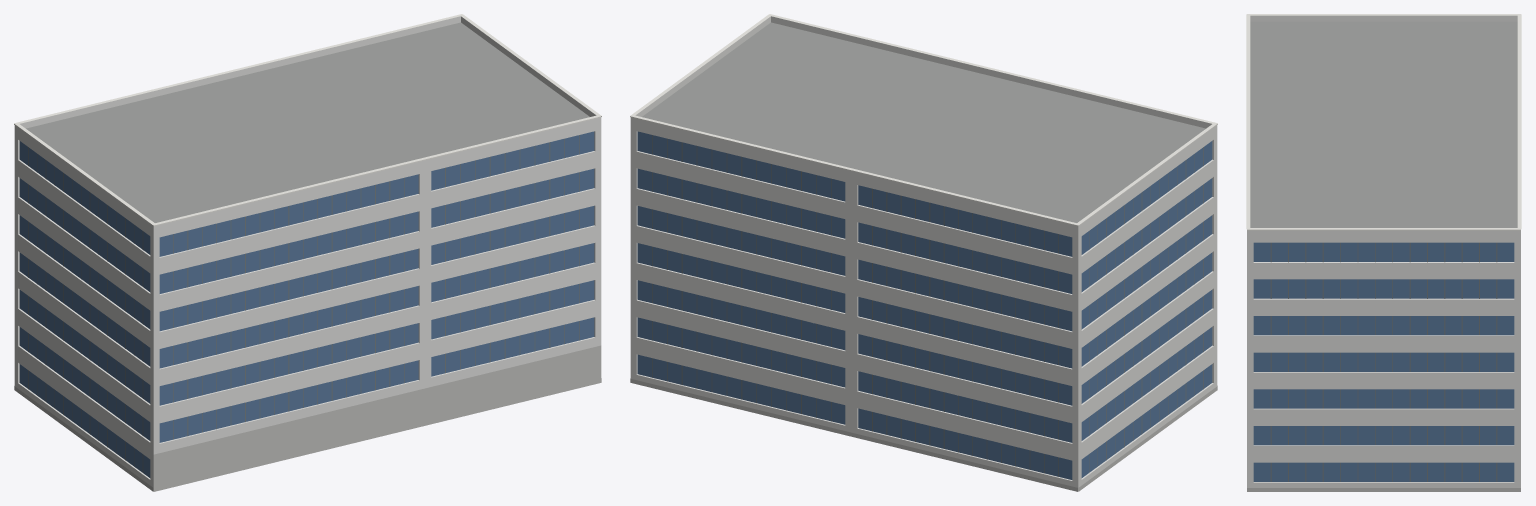
3 views of the same model, side by side, from view 1: azimuth 30°, elevation 25°; view 2: azimuth 150°, elevation 25°; view 3: azimuth 270°, elevation 25° (orthographic).
Visible parts, largest first — view 1: woojung__wall, woojung__glass, woojung__roof, woojung__base, woojung__parapet, woojung__frame, woojung__trim; view 2: woojung__wall, woojung__glass, woojung__roof, woojung__frame, woojung__parapet, woojung__trim, woojung__base; view 3: woojung__roof, woojung__glass, woojung__wall, woojung__parapet, woojung__trim, woojung__frame, woojung__base.
Part boxes in pixels (bbox=[...]): woojung__wall: bbox=[14, 122, 601, 491]; woojung__glass: bbox=[19, 131, 594, 477]; woojung__roof: bbox=[26, 22, 589, 222]; woojung__base: bbox=[14, 345, 601, 491]; woojung__parapet: bbox=[14, 16, 601, 231]; woojung__frame: bbox=[28, 135, 579, 472]; woojung__trim: bbox=[14, 14, 601, 226]; woojung__wall: bbox=[630, 122, 1217, 491]; woojung__glass: bbox=[637, 131, 1212, 479]; woojung__roof: bbox=[642, 22, 1205, 222]; woojung__frame: bbox=[652, 135, 1203, 476]; woojung__parapet: bbox=[630, 16, 1217, 231]; woojung__trim: bbox=[630, 14, 1217, 226]; woojung__base: bbox=[630, 378, 1217, 491]; woojung__roof: bbox=[1250, 21, 1517, 227]; woojung__glass: bbox=[1253, 242, 1514, 481]; woojung__wall: bbox=[1247, 235, 1520, 487]; woojung__parapet: bbox=[1247, 15, 1520, 235]; woojung__trim: bbox=[1246, 14, 1521, 230]; woojung__frame: bbox=[1270, 242, 1497, 481]; woojung__base: bbox=[1247, 488, 1520, 491].
Size of the model in its own units: 45.44 by 25.8 by 24.52.
